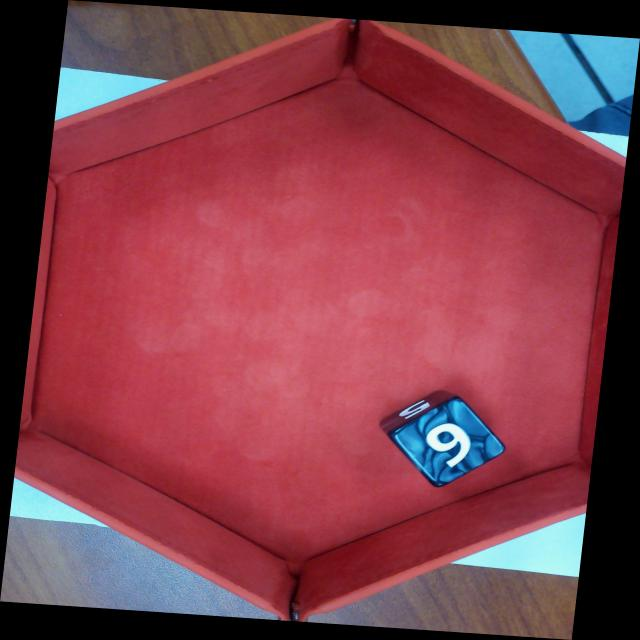dice: (393, 397, 509, 485)
